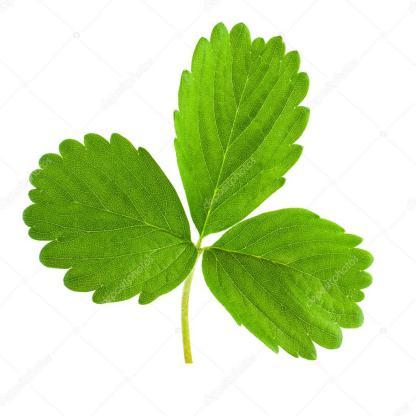Strawberry leaf: (10, 123, 194, 314), (175, 17, 313, 242), (203, 204, 379, 376)
